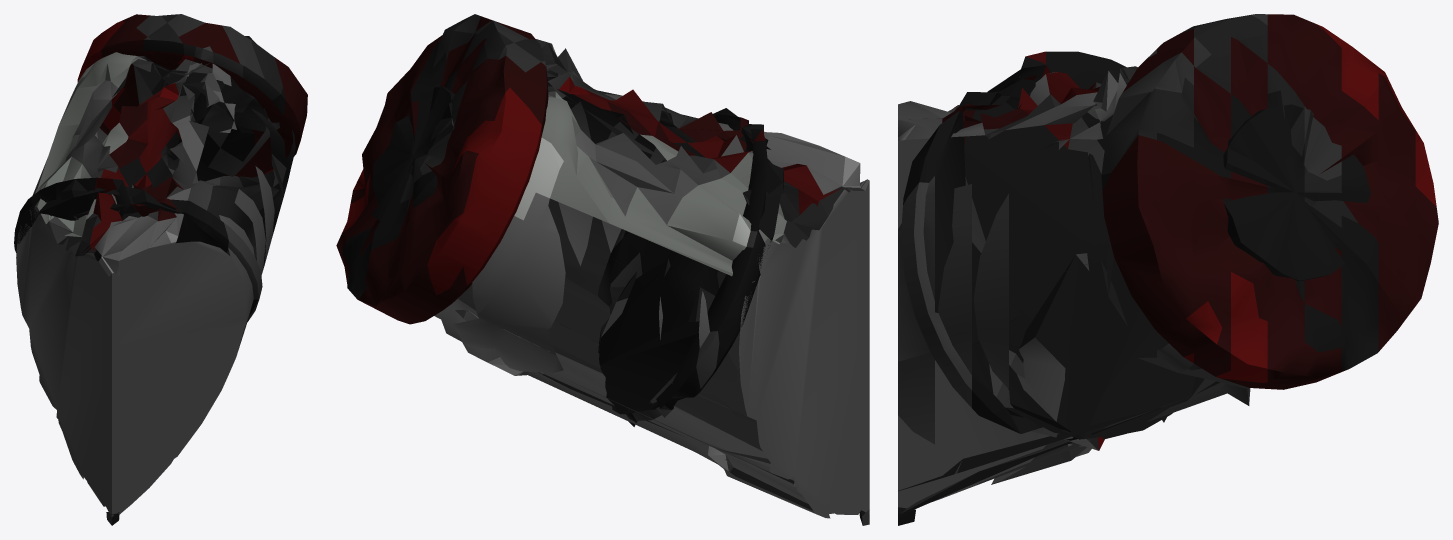
The model's file is mortar_muzzle_damaged.glb.
3 renders of one model, left to right at view 1: azimuth 30°, elevation 25°; view 2: azimuth 150°, elevation 25°; view 3: azimuth 270°, elevation 25°, orthographic. The views are drawn at different scales.
Parts seen in each view (by area): view 1: barrel, muzzle, band15; view 2: barrel, muzzle, band15, bore; view 3: muzzle, band15, barrel, bore.
Boxes of the visible parts, x1=… form: barrel: x1=16, y1=52, x2=295, y2=517; muzzle: x1=77, y1=14, x2=307, y2=177; band15: x1=14, y1=177, x2=262, y2=321; barrel: x1=434, y1=39, x2=869, y2=518; muzzle: x1=336, y1=14, x2=548, y2=324; band15: x1=598, y1=108, x2=783, y2=426; bore: x1=371, y1=86, x2=455, y2=220; muzzle: x1=1101, y1=14, x2=1438, y2=389; band15: x1=901, y1=51, x2=1204, y2=450; barrel: x1=898, y1=66, x2=1250, y2=516; bore: x1=1223, y1=104, x2=1370, y2=281.
Size of the model in its own units: 14.2 by 19.15 by 14.63.
